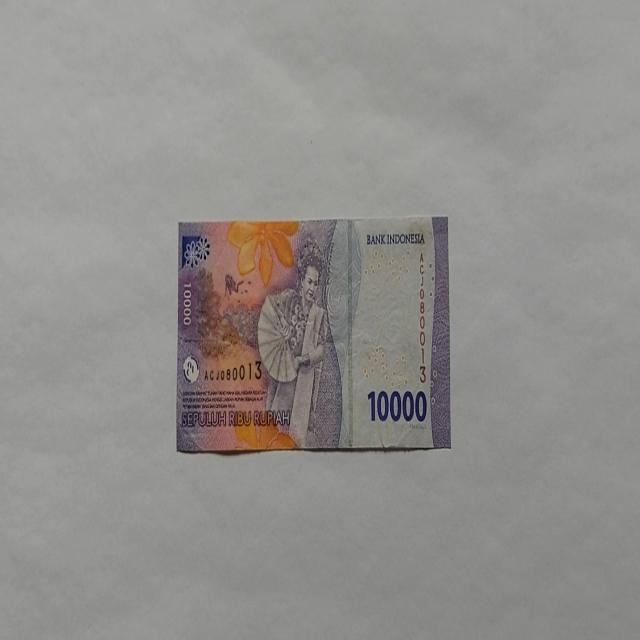sepuluh ribu rupiah: (175, 215, 451, 454)
